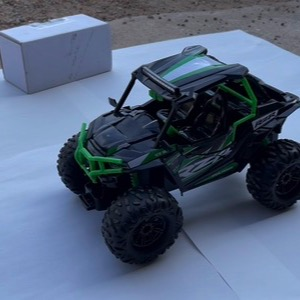polaris: (57, 46, 300, 267)
